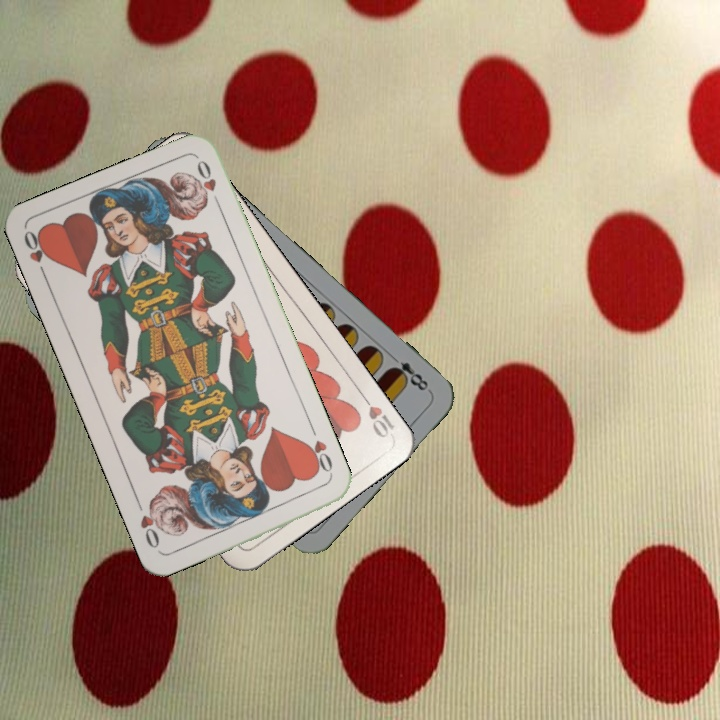E8: (385, 350, 433, 395)
H10: (355, 387, 398, 441)
HO: (300, 424, 336, 481), (19, 226, 54, 284)
